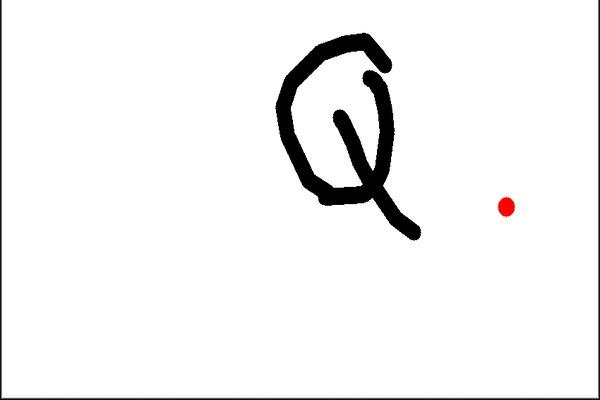Q: (268, 25, 435, 246)
